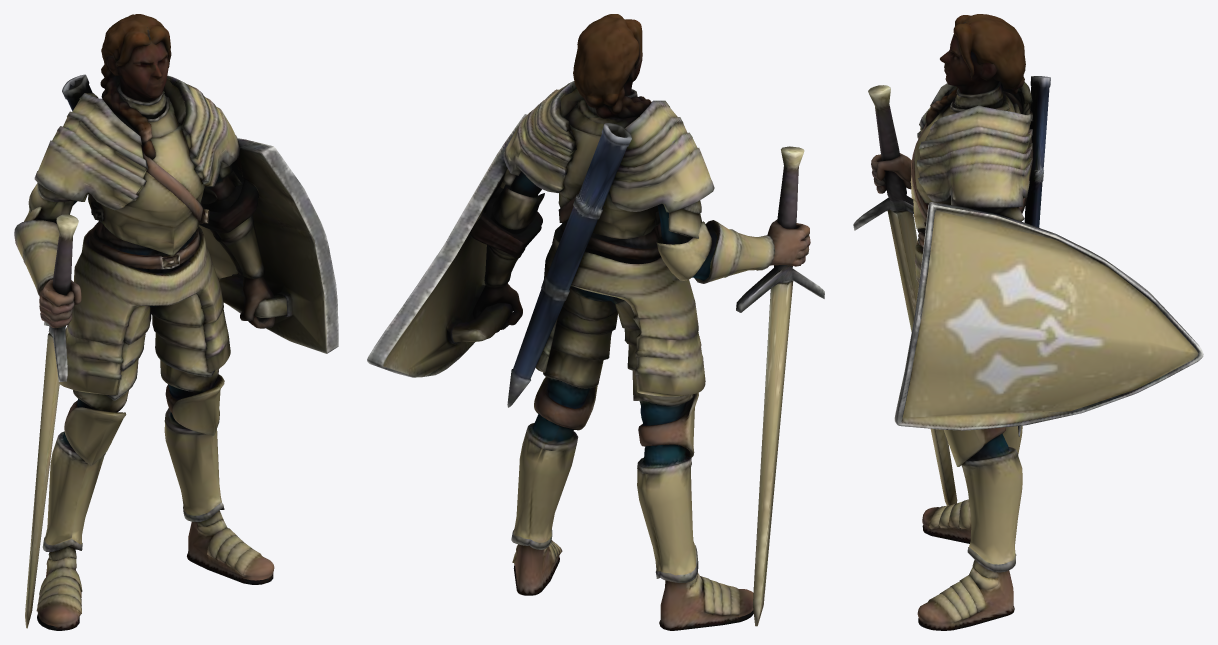
The model's file is MZ4250 - Human Female Paladin 4b.glb.
3 views of the same model, side by side, from view 1: azimuth 30°, elevation 25°; view 2: azimuth 150°, elevation 25°; view 3: azimuth 270°, elevation 25° (orthographic). The views are drawn at different scales.
Parts seen in each view (by area): view 1: Human Female Paladin 4.001; view 2: Human Female Paladin 4.001; view 3: Human Female Paladin 4.001.
Part boxes in pixels (bbox=[...]): Human Female Paladin 4.001: bbox=[14, 14, 338, 630]; Human Female Paladin 4.001: bbox=[367, 14, 824, 630]; Human Female Paladin 4.001: bbox=[853, 14, 1203, 630].
Bounding box in the file's own units: 19.77 × 35.34 × 19.9.
Materials: 1 (1 with a texture image).
